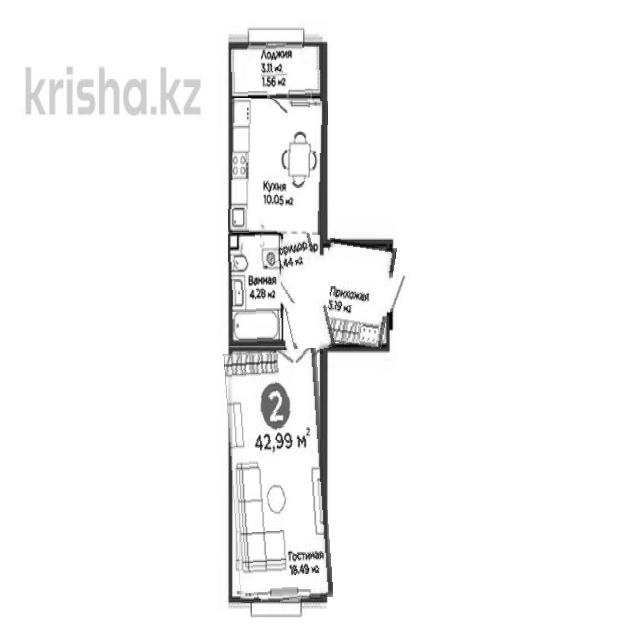balcony: (230, 44, 322, 98)
bathroom: (229, 234, 283, 346)
hallway: (318, 241, 394, 347), (276, 234, 329, 354)
kitchen: (229, 99, 327, 235)
living_room: (228, 350, 329, 602)
